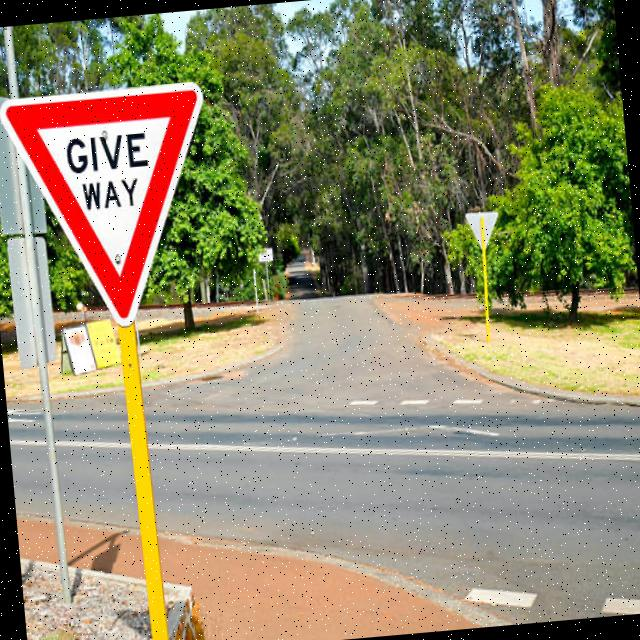give_way: (0, 73, 233, 340)
